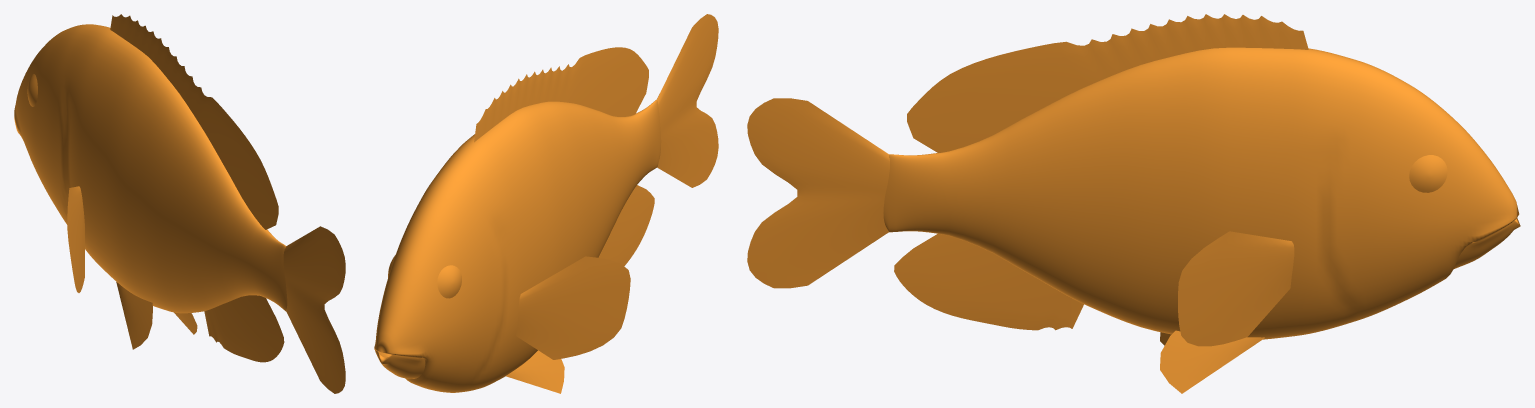
File: garibaldi.glb
3 renders of one model, left to right at view 1: azimuth 30°, elevation 25°; view 2: azimuth 150°, elevation 25°; view 3: azimuth 270°, elevation 25°, orthographic. The views are drawn at different scales.
Parts seen in each view (by area): view 1: garibaldi; view 2: garibaldi; view 3: garibaldi.
Boxes of the visible parts, x1,y1,x2,y2 form: garibaldi: (14, 14, 345, 393); garibaldi: (374, 14, 718, 393); garibaldi: (747, 14, 1520, 393).
Bounding box in the file's own units: 0.1032 × 0.1556 × 0.3011.
